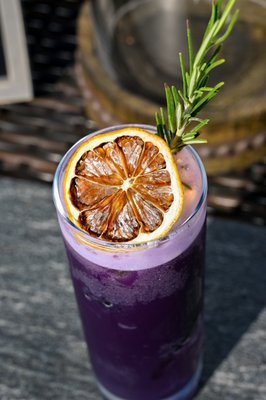soup: (51, 122, 208, 397)
